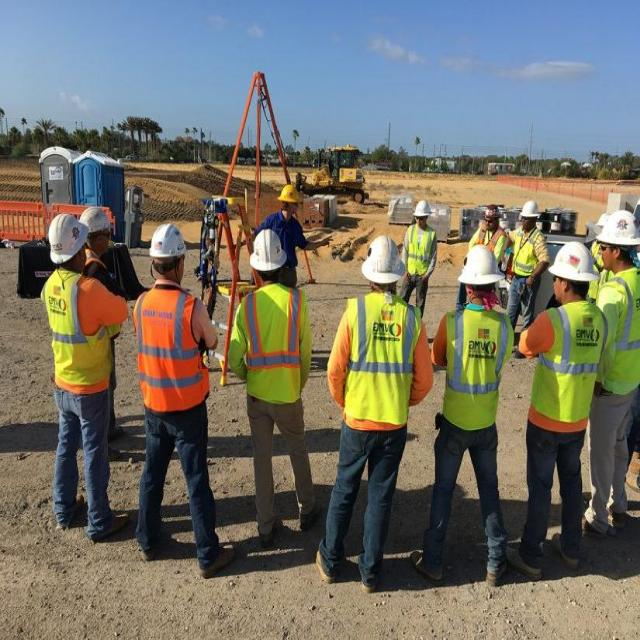Reflective-Jacket: (340, 295, 420, 431), (528, 302, 605, 430), (136, 286, 206, 412), (40, 270, 111, 394), (439, 307, 509, 430), (241, 284, 308, 406), (600, 267, 640, 399), (405, 226, 436, 280)
Safety-Helmet: (360, 232, 405, 284), (46, 211, 88, 262), (548, 239, 598, 281), (457, 244, 504, 287), (248, 226, 290, 271), (597, 206, 639, 248), (149, 221, 187, 261), (78, 204, 112, 236), (276, 182, 303, 206), (412, 197, 433, 218), (520, 198, 540, 220)
